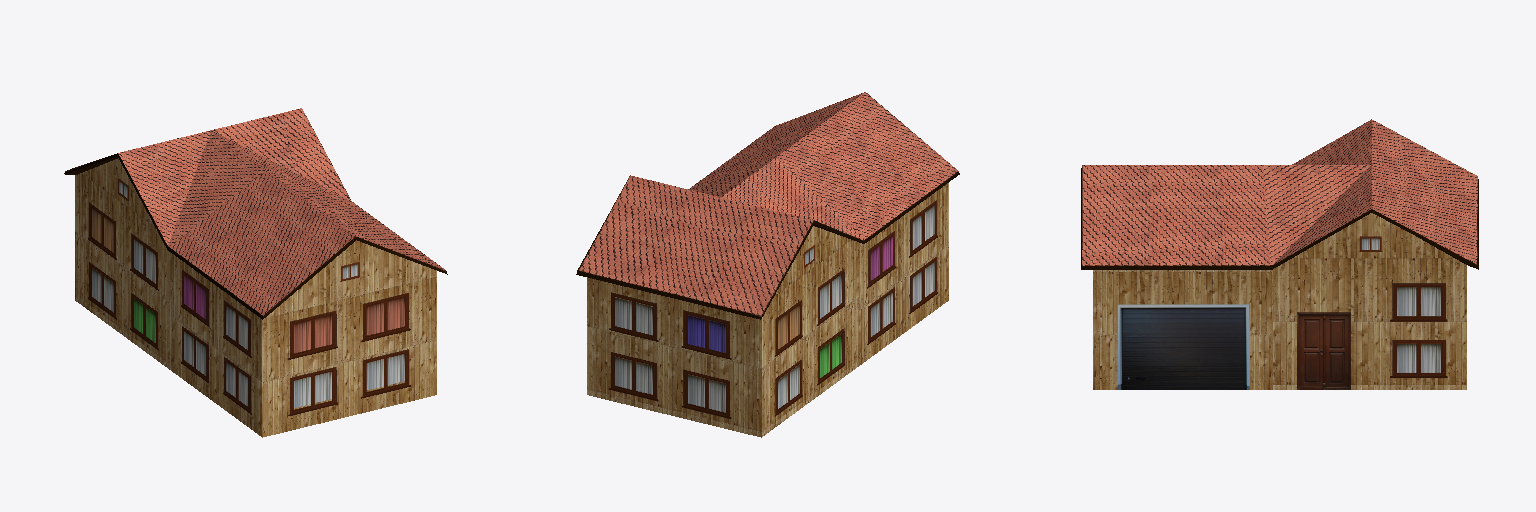
3 renders of one model, left to right at view 1: azimuth 30°, elevation 25°; view 2: azimuth 150°, elevation 25°; view 3: azimuth 270°, elevation 25°, orthographic.
Visible parts, largest first — view 1: pCube1; view 2: pCube1; view 3: pCube1.
Part boxes in pixels (bbox=[...]): pCube1: bbox=[64, 108, 447, 437]; pCube1: bbox=[576, 92, 959, 437]; pCube1: bbox=[1081, 119, 1478, 389].
Size of the model in its own units: 9.4 by 8.93 by 17.49.
1 materials, 1 textured.